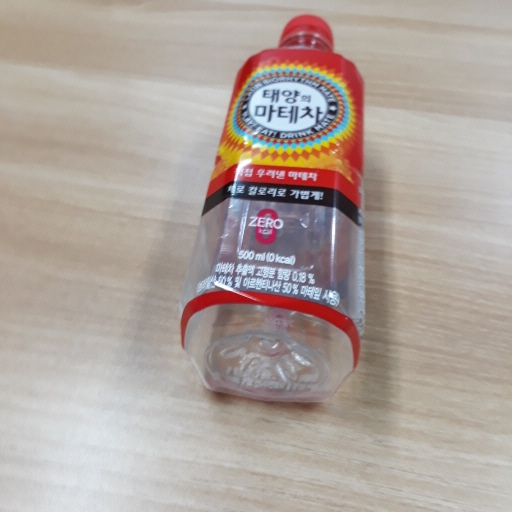Plastic_0: (181, 13, 366, 402)
